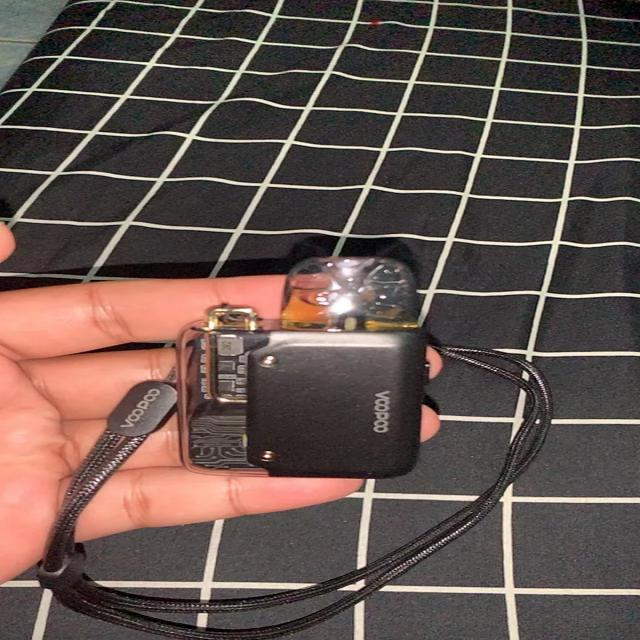Hazard: (172, 256, 424, 476)
